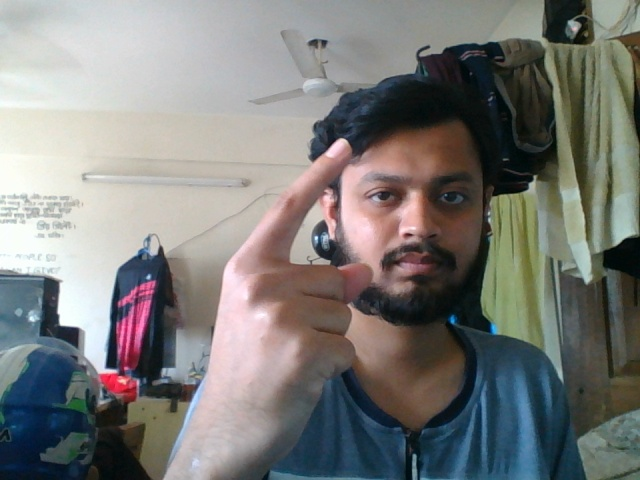u: (204, 136, 378, 460)
